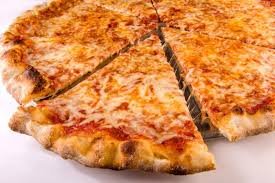pizza: (16, 31, 212, 177)
